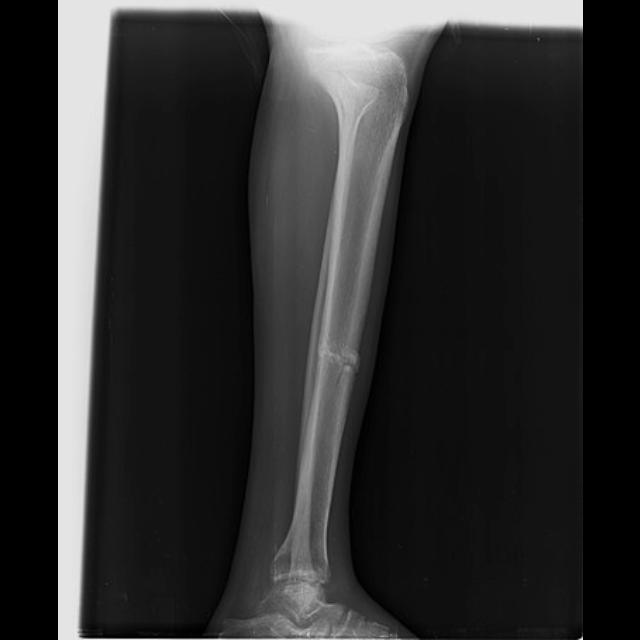Fracture: (314, 318, 363, 393)
